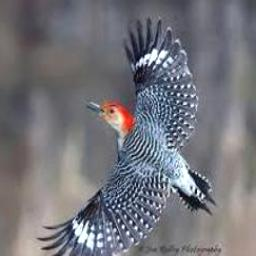Woodpecker: (37, 15, 217, 256)
